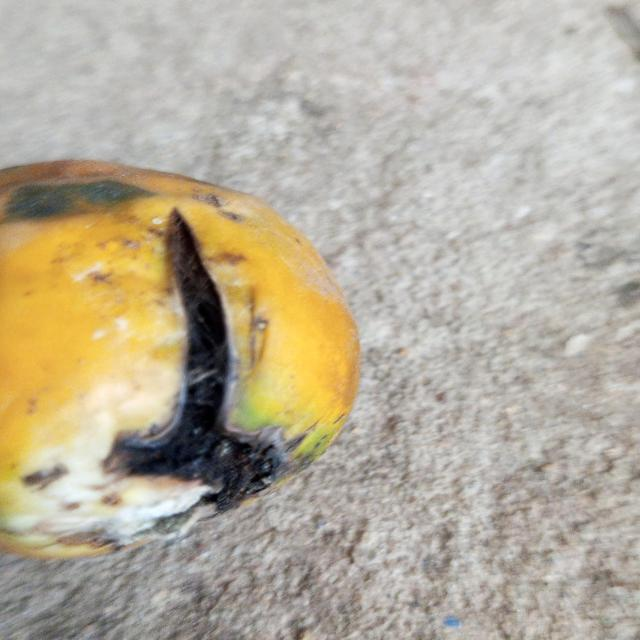damaged: (0, 161, 359, 558)
